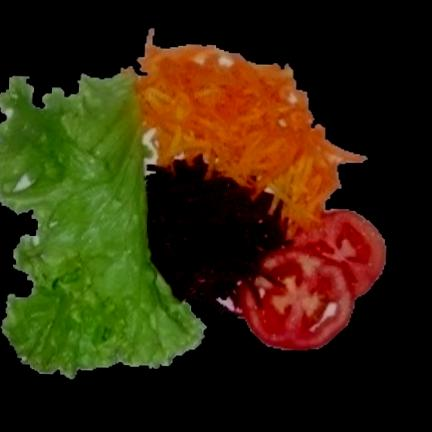beet: (148, 158, 284, 312)
carrot: (138, 37, 366, 238)
salad: (0, 73, 205, 377)
tomato: (239, 210, 387, 350)
